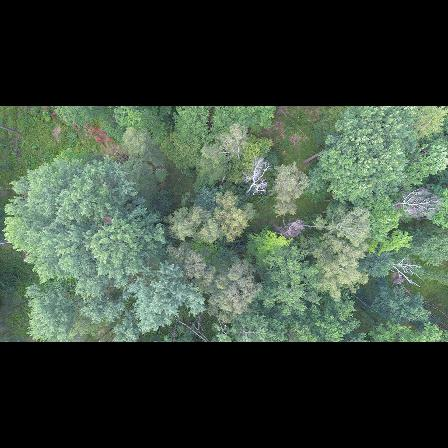Dead: (390, 185, 442, 220), (389, 257, 424, 294), (242, 157, 273, 197), (273, 215, 305, 240)
